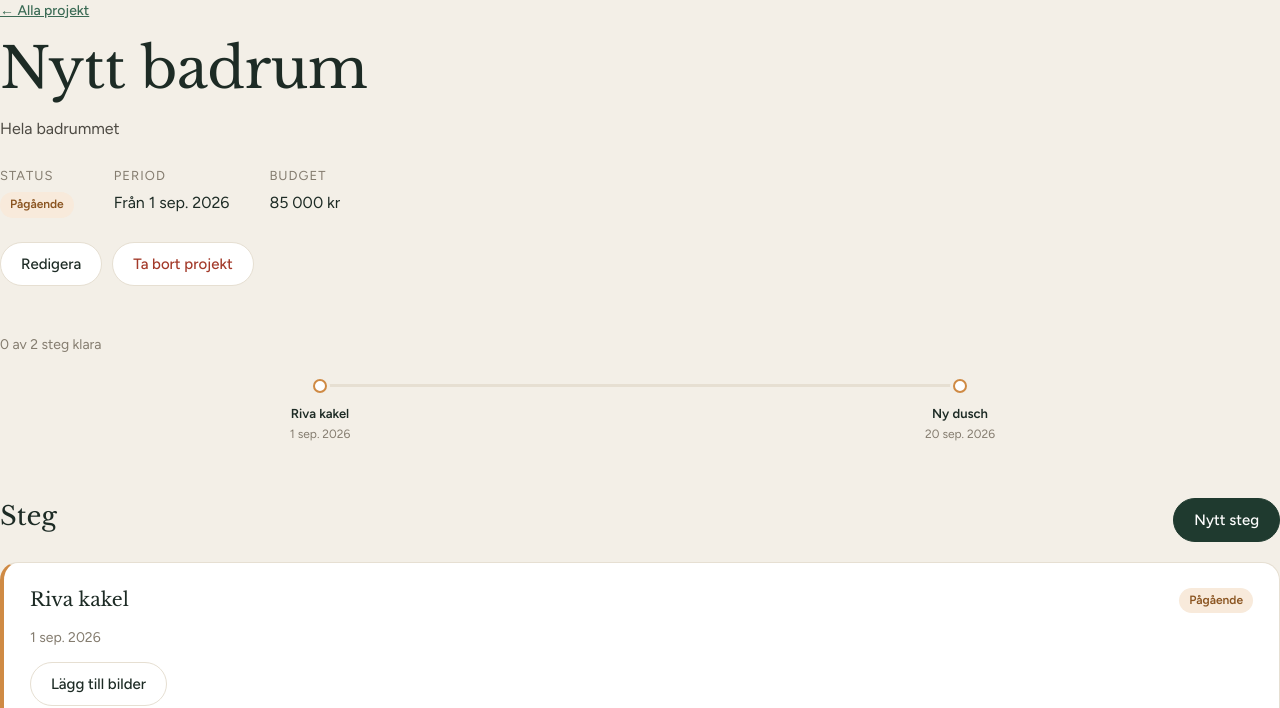
Scenario: ProjectDetail: steps › places a new step in date order and closes the form
The width and height of the screenshot is (1280, 708).
expect the heading "Riva kakel" is shown: met, box [30,585,129,615]
Click the button "Nytt steg" at (1227, 520), box [1173,498,1279,542]
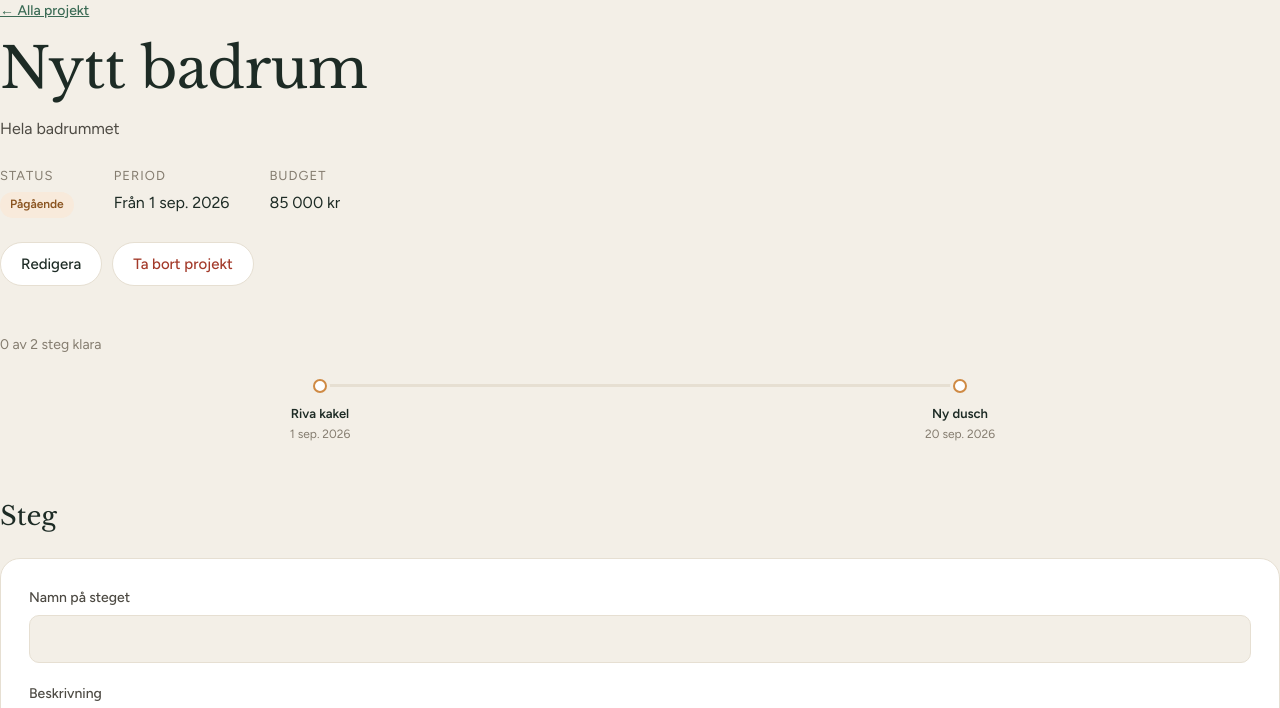
Type "Nya rör" into the field labelled "Namn på steget" at (640, 639), box [29,615,1251,662]
(page scrolled)
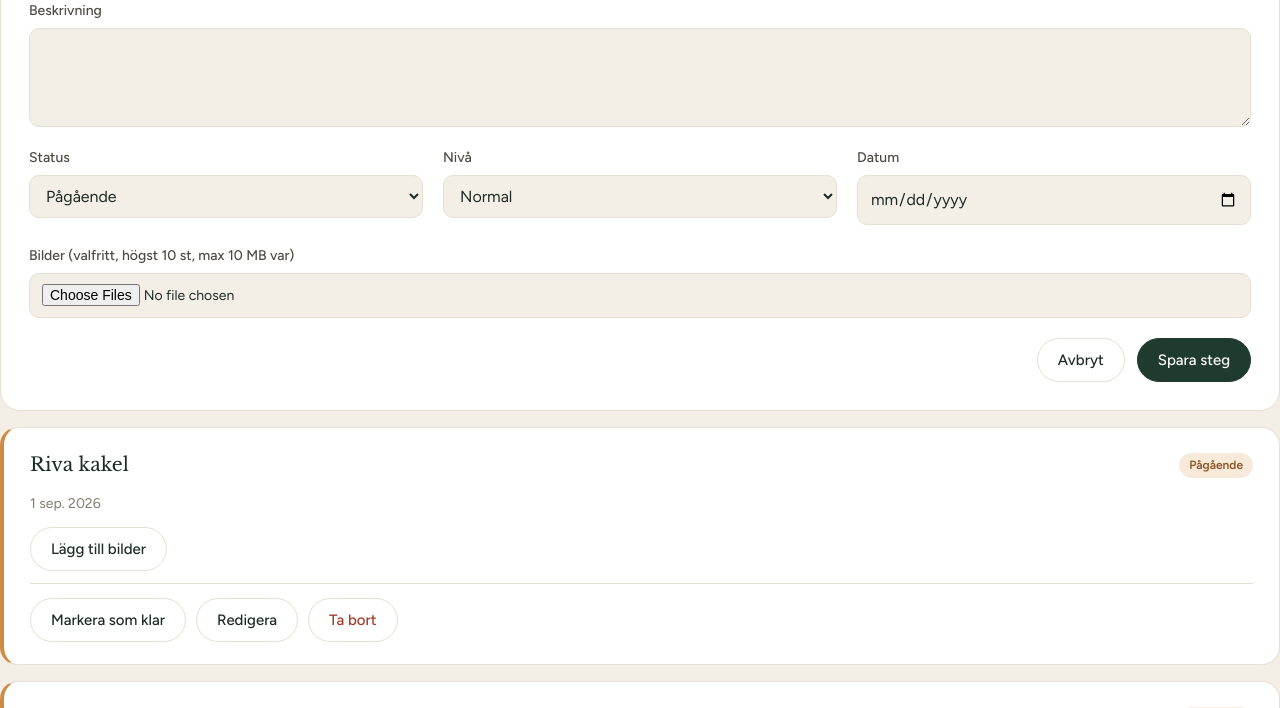
Click the button "Spara steg" at (1194, 360), box [1137,338,1251,382]
(page scrolled)
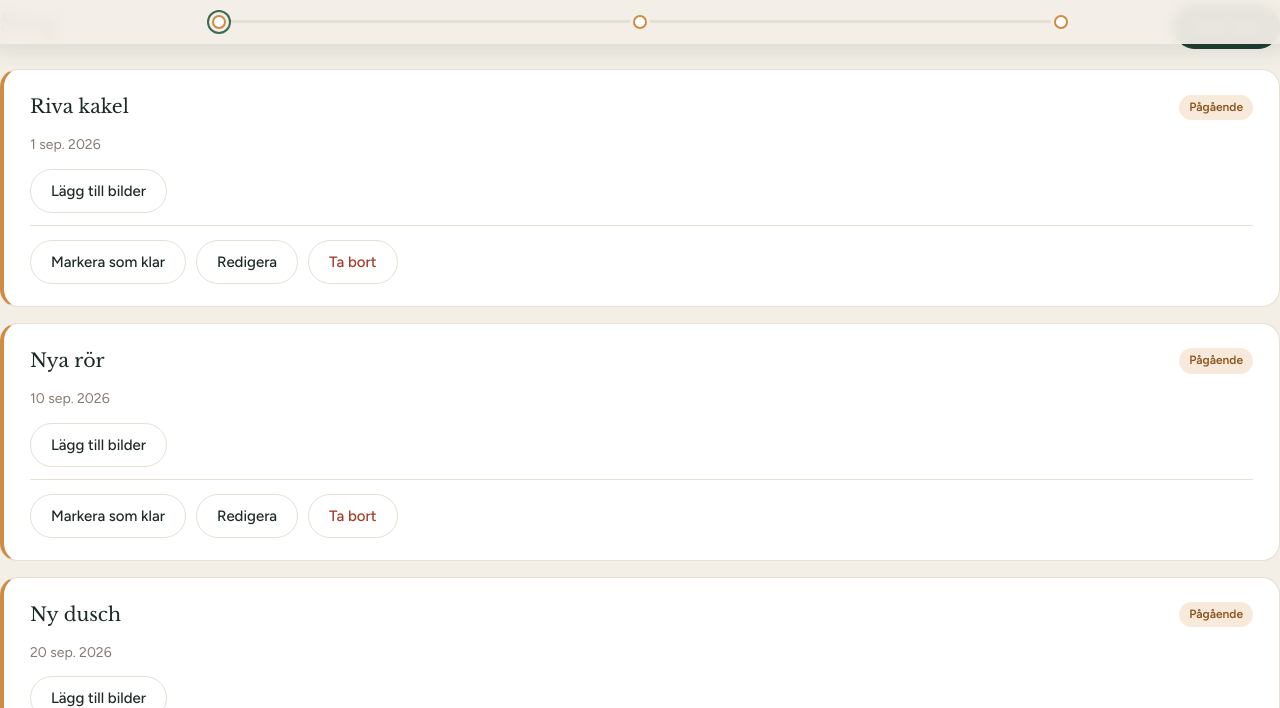
expect the heading "Nya rör" is shown: met, box [30,346,105,376]
expect the headings read "Riva kakel", "Nya rör", "Ny dusch", in this order: met, box [30,92,129,122]; [30,346,105,376]; [30,600,121,630]
